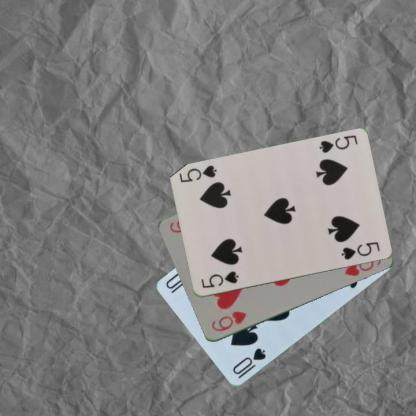10s: (230, 346, 267, 376)
5s: (316, 133, 359, 155), (198, 269, 240, 290)
6h: (208, 308, 248, 333)
